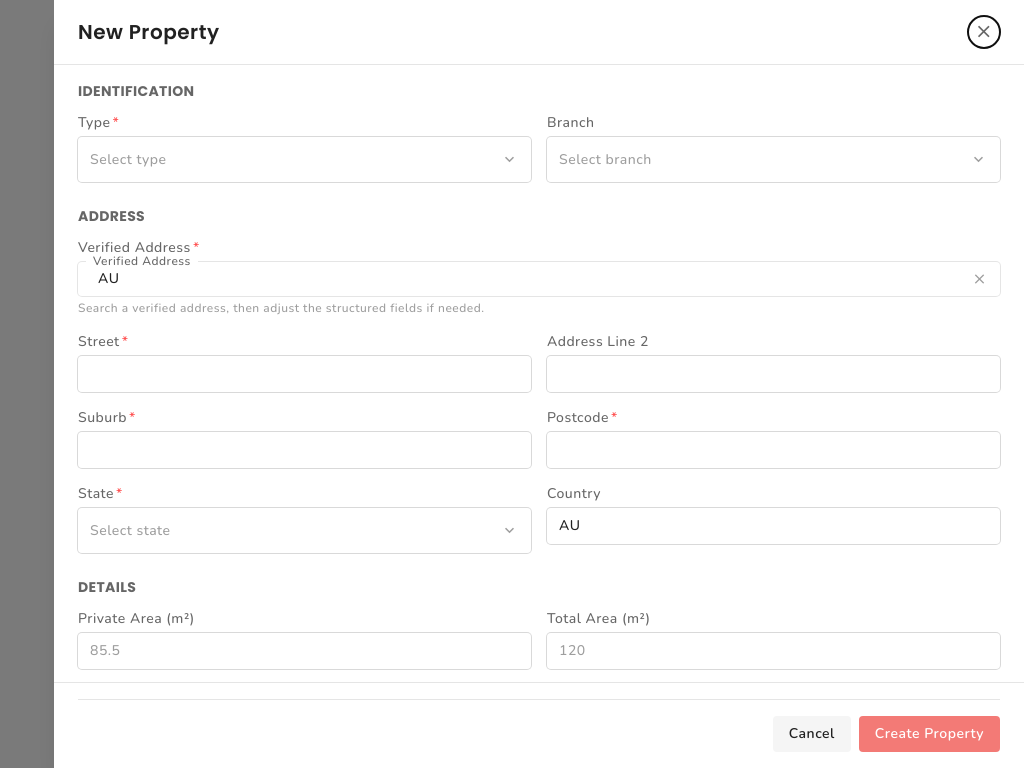
Scenario: PropertyFormDrawer › shows validation errors and prevents save when validation fails
Click the button "Create Property". click: x=929, y=734
box: [859,716,1000,752]
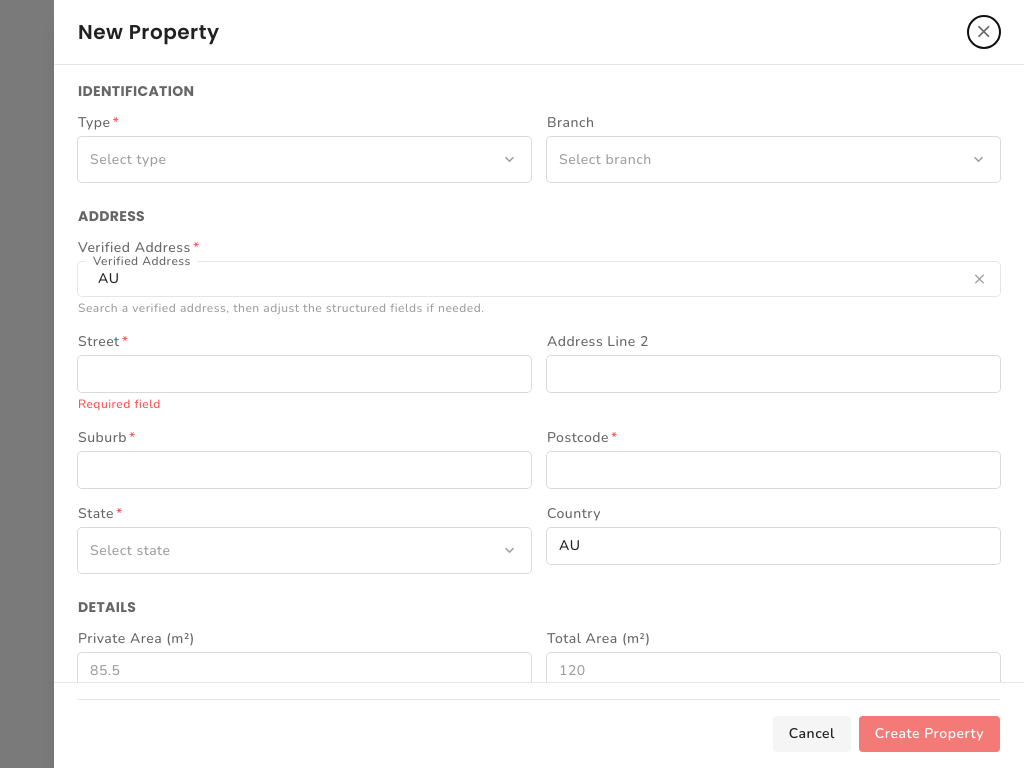
Check: the text "Required field" is shown, box [78,396,161,412]
